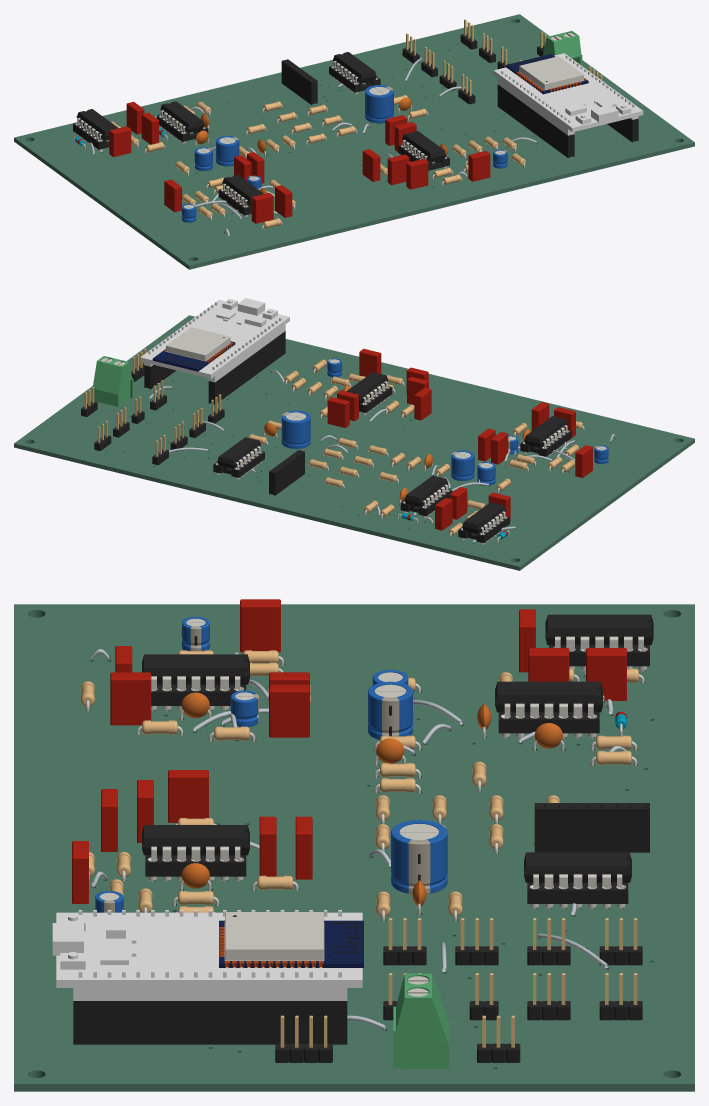
The model's file is ecualizador-D3-retrofit.glb.
3 views of the same model, one above another, from view 1: azimuth 30°, elevation 25°; view 2: azimuth 150°, elevation 25°; view 3: azimuth 270°, elevation 25° (orthographic). The views are drawn at different scales.
Visible parts, largest first — view 1: =>[0:1:1:99], U5 (×4), U6 (×2), U3 (×2), U4 (×2), U1 (×2), J4, C26, J6, U2, C3, C24 (+10 smaller); view 2: =>[0:1:1:99], U5 (×4), J6, U6 (×2), U4 (×2), U1 (×2), U3 (×2), C26, J4, U2, C3, C18 (+6 smaller); view 3: =>[0:1:1:99], U5 (×3), U6 (×2), J4, U3 (×2), U2 (×2), U1 (×2), J6, U4 (×2), C26, C3, C12 (+22 smaller).
Boxes of the visible parts, x1,y1,x2,y2 form: =>[0:1:1:99]: (14, 14, 694, 269); U5 (×4): (493, 53, 643, 157); U6 (×2): (329, 52, 380, 94); U3 (×2): (156, 101, 208, 144); U4 (×2): (73, 109, 118, 151); U1 (×2): (218, 174, 263, 217); J4: (281, 59, 317, 104); C26: (365, 85, 393, 123); J6: (542, 31, 582, 65); U2: (402, 131, 445, 162); C3: (216, 135, 239, 166); C24: (109, 126, 131, 156); =>[0:1:1:99]: (14, 315, 694, 570); U5 (×4): (140, 298, 289, 404); J6: (93, 356, 133, 406); U6 (×2): (213, 437, 264, 480); U4 (×2): (458, 502, 509, 545); U1 (×2): (520, 416, 571, 459); U3 (×2): (400, 475, 452, 518); C26: (281, 410, 310, 448); J4: (269, 450, 304, 495); U2: (346, 372, 388, 404); C3: (451, 450, 474, 480); C18: (327, 397, 349, 427); =>[0:1:1:99]: (14, 604, 694, 1091); U5 (×3): (52, 910, 363, 1044); U6 (×2): (524, 852, 631, 909); J4: (534, 803, 649, 852); U3 (×2): (495, 681, 602, 738); U2 (×2): (142, 825, 249, 881); U1 (×2): (142, 654, 249, 711); J6: (393, 973, 448, 1068); U4 (×2): (545, 614, 653, 671); C26: (391, 820, 447, 894); C3: (368, 681, 413, 739); C12: (110, 672, 151, 725).
Size of the model in its own units: 0.2 by 0.0217 by 0.12.
